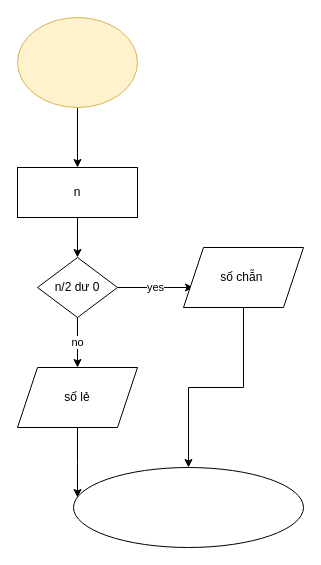
This 321x565 diagram has some shape labels left out. The shapes that lost their labels are listed below. From the top down, each one's centre as x and y in pixels, then its label:
At [77,62]: "Start".
At [188,507]: "end".
